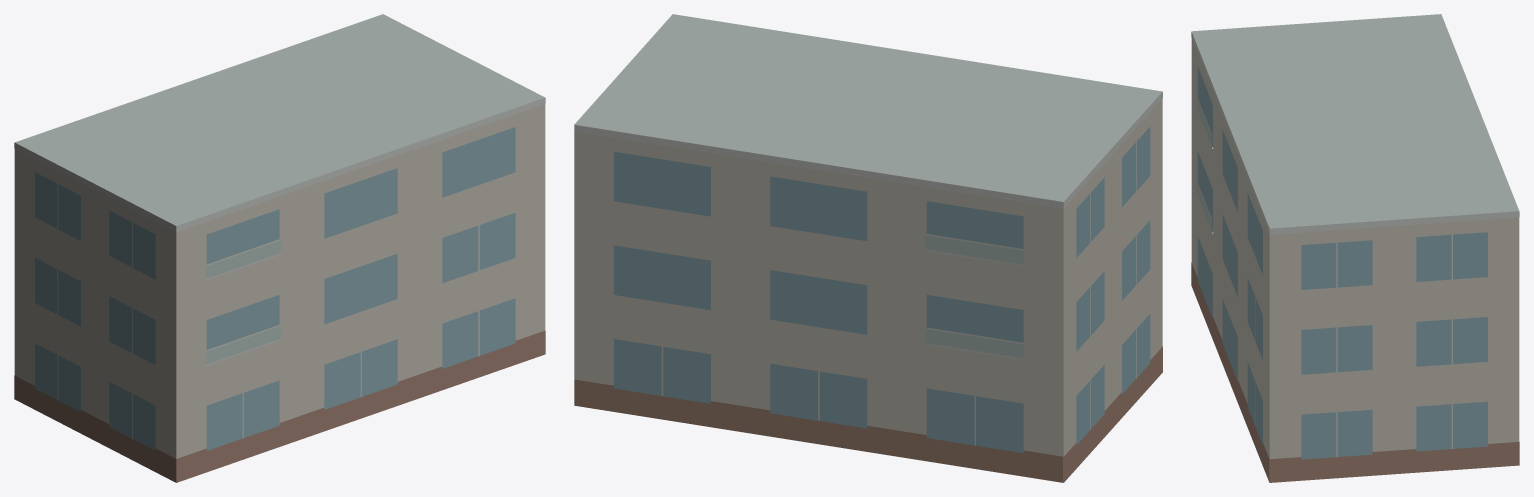
File: survey-upis-32826882.glb
The picture shows the model from 3 angles, left to right: view 1: azimuth 30°, elevation 25°; view 2: azimuth 150°, elevation 25°; view 3: azimuth 270°, elevation 25°; orthographic projection. The views are drawn at different scales.
Visible parts, largest first — view 1: survey-upis-32826882.tmp; view 2: survey-upis-32826882.tmp; view 3: survey-upis-32826882.tmp.
Part boxes in pixels (x1,y1,x2,y2): survey-upis-32826882.tmp: [14, 14, 545, 482]; survey-upis-32826882.tmp: [574, 14, 1162, 482]; survey-upis-32826882.tmp: [1191, 14, 1519, 482].
Bounding box in the file's own units: 18.11 × 10 × 11.7.
